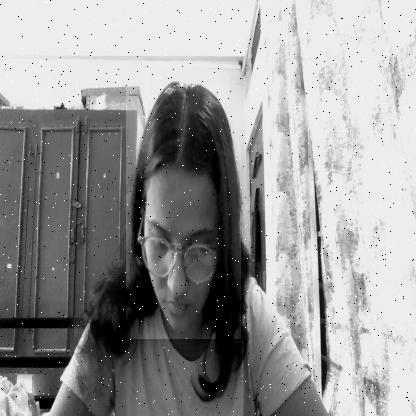Normal: (126, 85, 241, 339)
